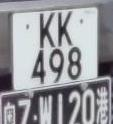4: (26, 49, 49, 86)
8: (66, 43, 85, 87)
9: (47, 47, 68, 86)
K: (33, 10, 57, 49), (56, 8, 75, 51)
